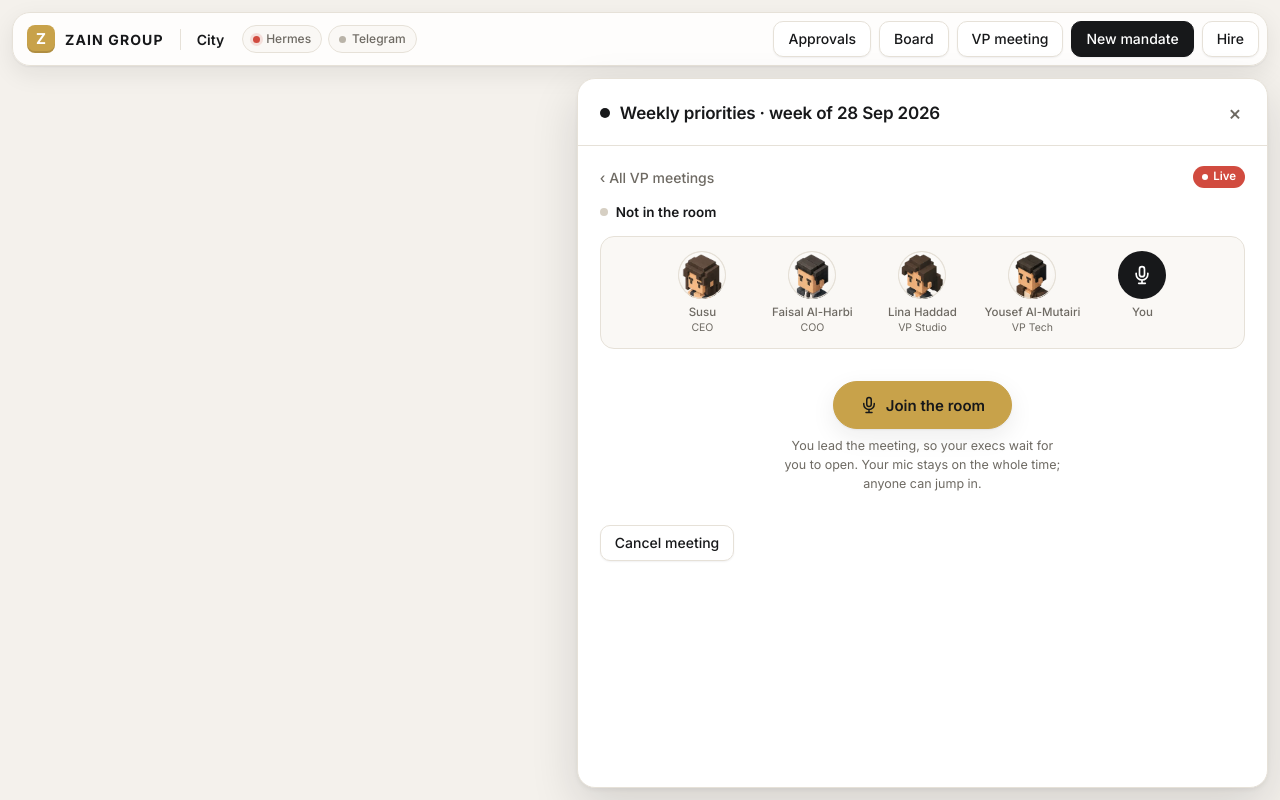
Scenario: Leadership live room › ends with a confirm, posts final:true, and moves to drafting
Click the button "Join the room". click: (922, 405)
box: [833, 381, 1012, 429]
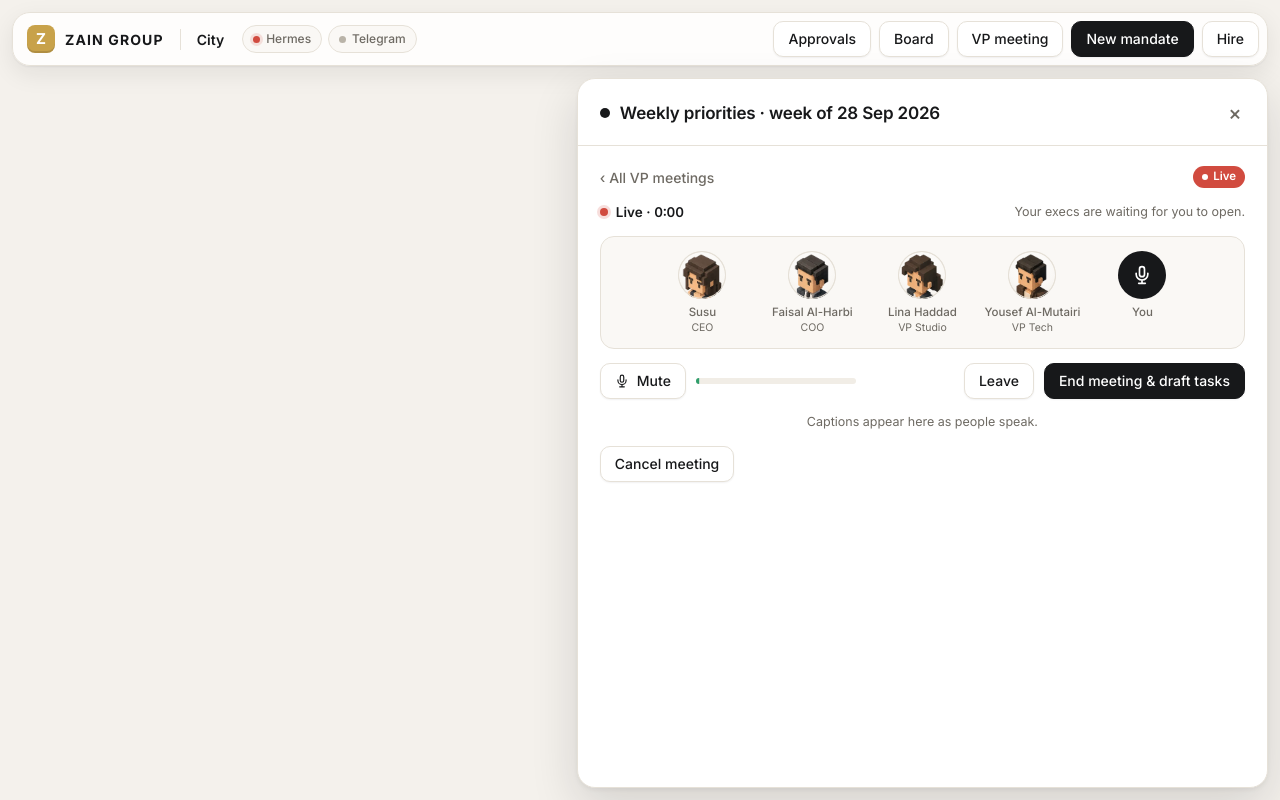
Now the text "Live · 0:00" is shown, box [600, 202, 684, 222]
Click the button "End meeting & draft tasks". click: (1144, 381)
box: [1044, 363, 1245, 399]
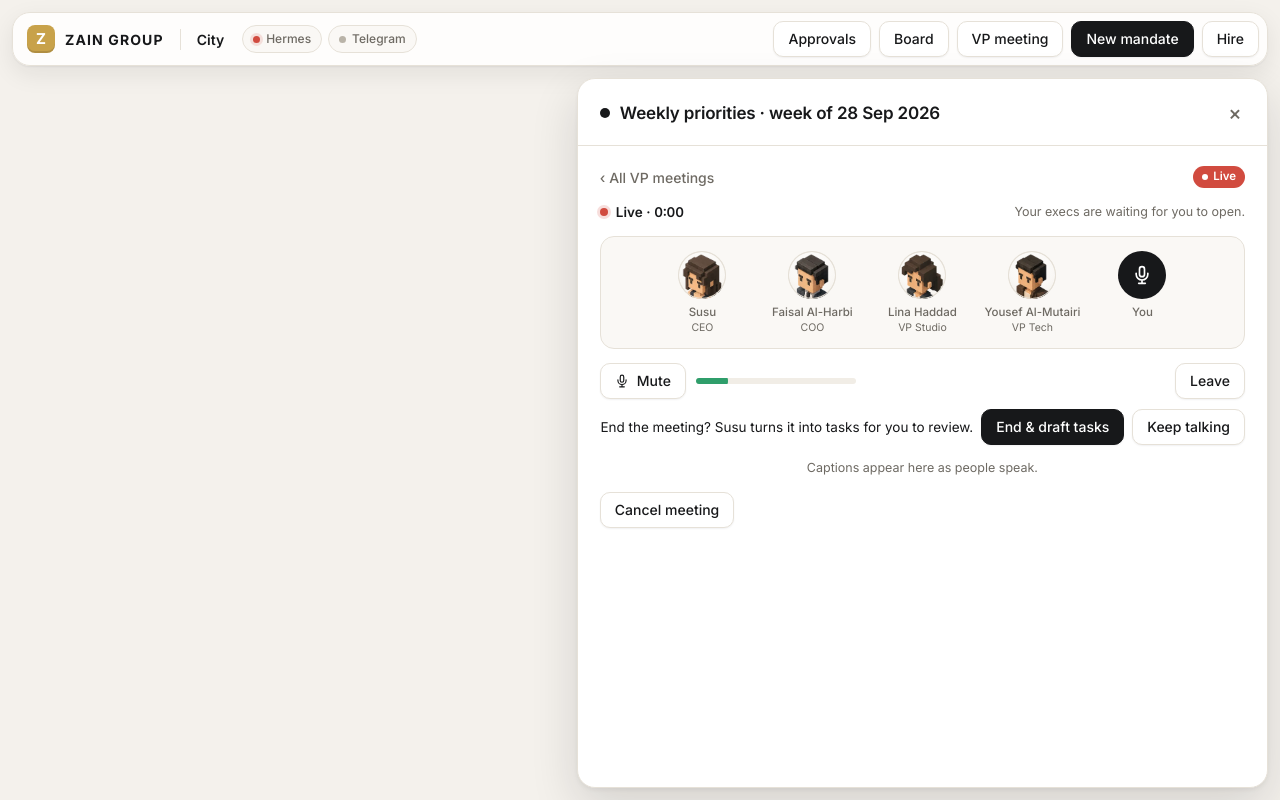
Now the element named "Confirm end meeting" shows "End the meeting? Susu turns it into tasks for you to review.", box [600, 419, 973, 435]
Click the button "End & draft tasks". click: (1053, 427)
box: [981, 409, 1124, 445]
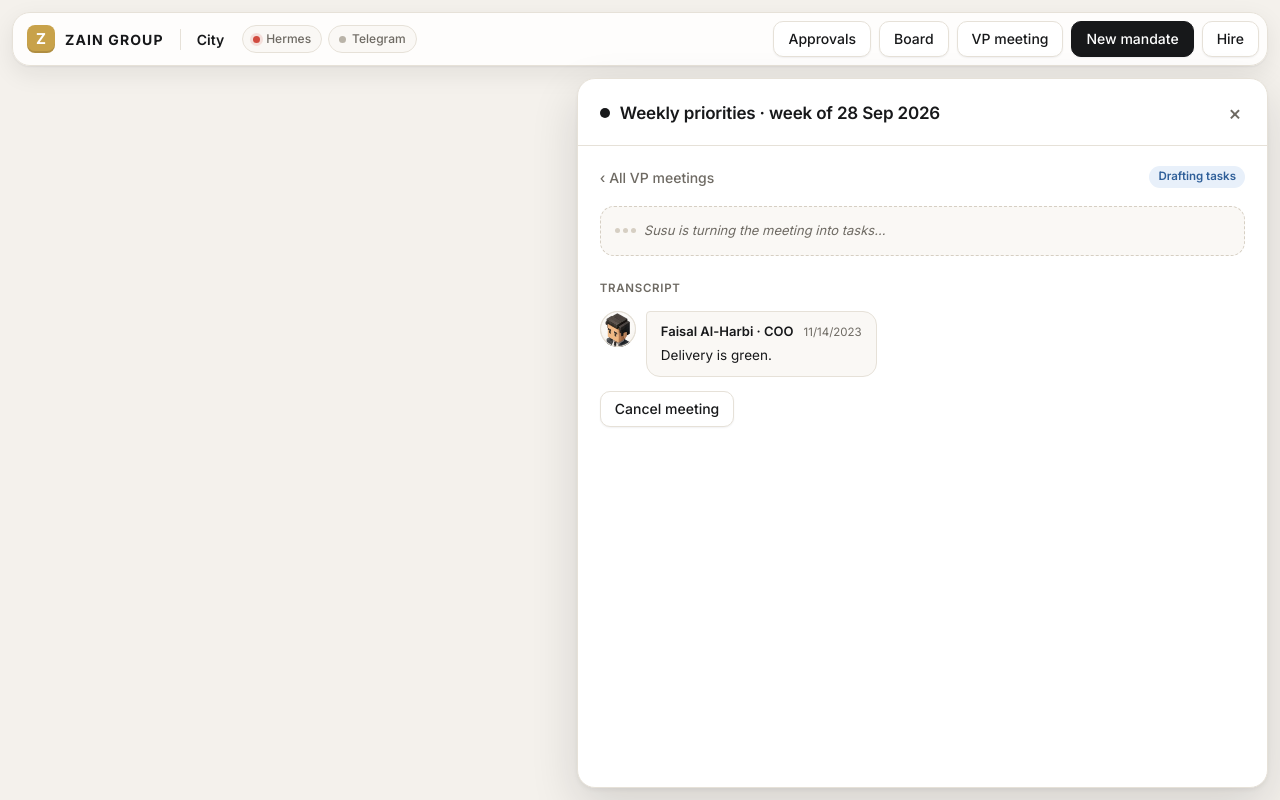
Now the text "Susu is turning the meeting into tasks…" is shown, box [600, 206, 1245, 256]
